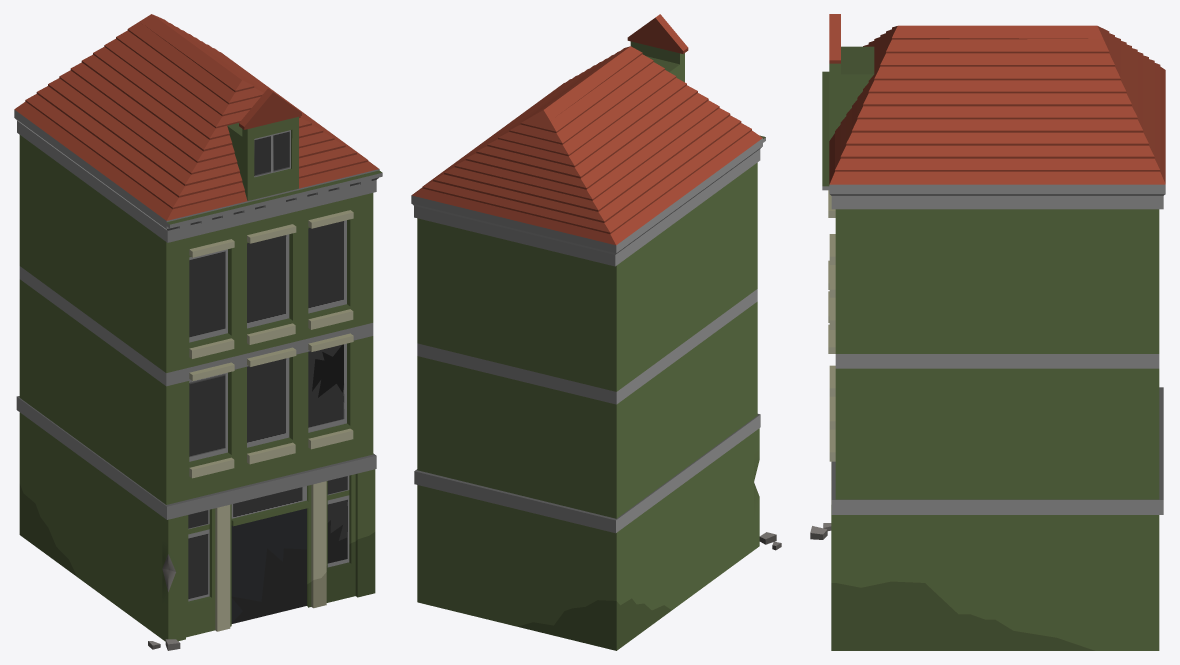
The model's file is SA_Bld_OfficeOld_03.gltf.
3 views of the same model, side by side, from view 1: azimuth 30°, elevation 25°; view 2: azimuth 150°, elevation 25°; view 3: azimuth 270°, elevation 25° (orthographic). The views are drawn at different scales.
Parts seen in each view (by area): view 1: SA_Bld_OfficeOld_03; view 2: SA_Bld_OfficeOld_03; view 3: SA_Bld_OfficeOld_03.
Boxes of the visible parts, x1,y1,x2,y2 form: SA_Bld_OfficeOld_03: [14, 14, 382, 650]; SA_Bld_OfficeOld_03: [411, 14, 781, 650]; SA_Bld_OfficeOld_03: [810, 14, 1165, 650].
Bounding box in the file's own units: 9.19 × 20.16 × 11.17.
Materials: 1 (1 with a texture image).
